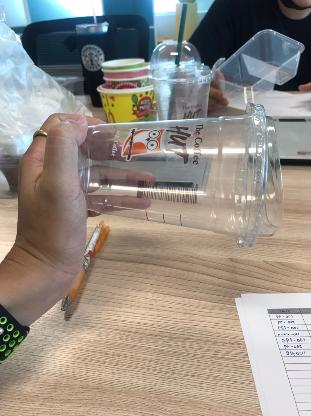Plastic Cup: (77, 104, 285, 248)
